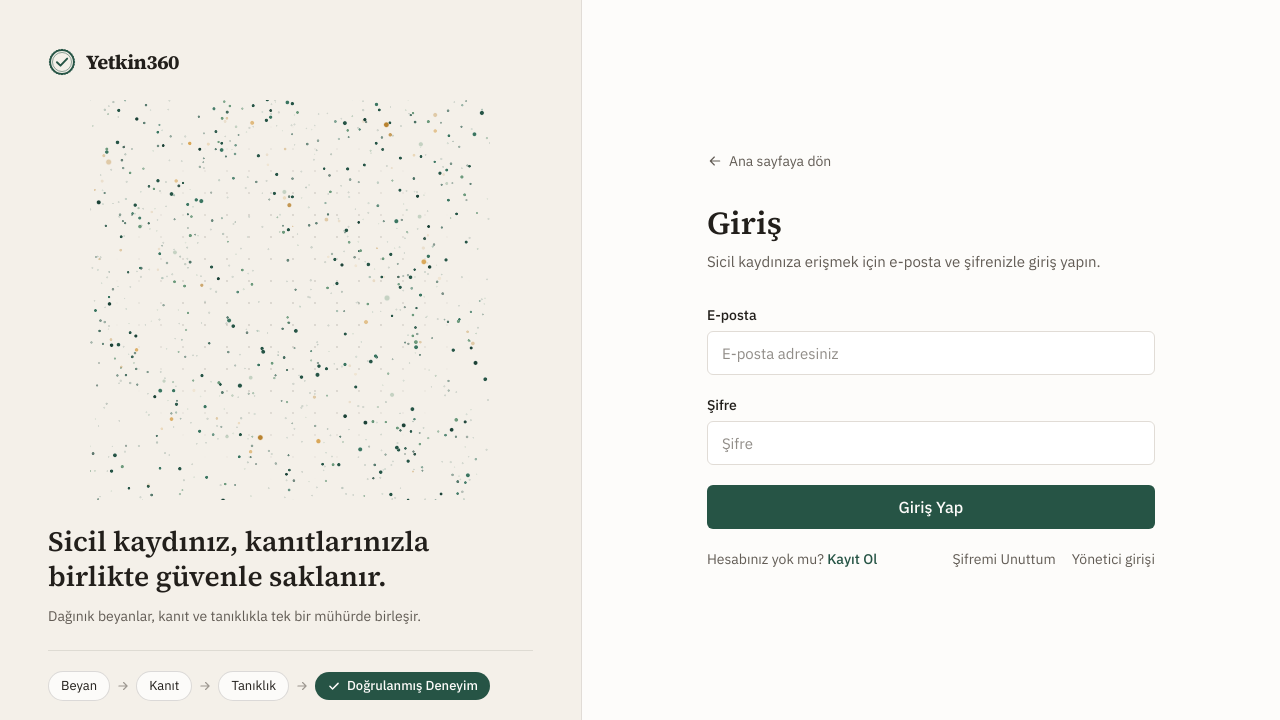
Test: LoginPage (giris/page.tsx) — Form Gerçek İmplementasyon › AC-9: Client-side + backend validasyon (422) › AC-9: Backend 422 dönerse ilgili alanın altında backend mesajı gösterilir
The width and height of the screenshot is (1280, 720).
Type "test@example.com" into the field with placeholder "E-posta adresiniz".
click(931, 353); type("test@example.com")  # box [707, 331, 1155, 375]
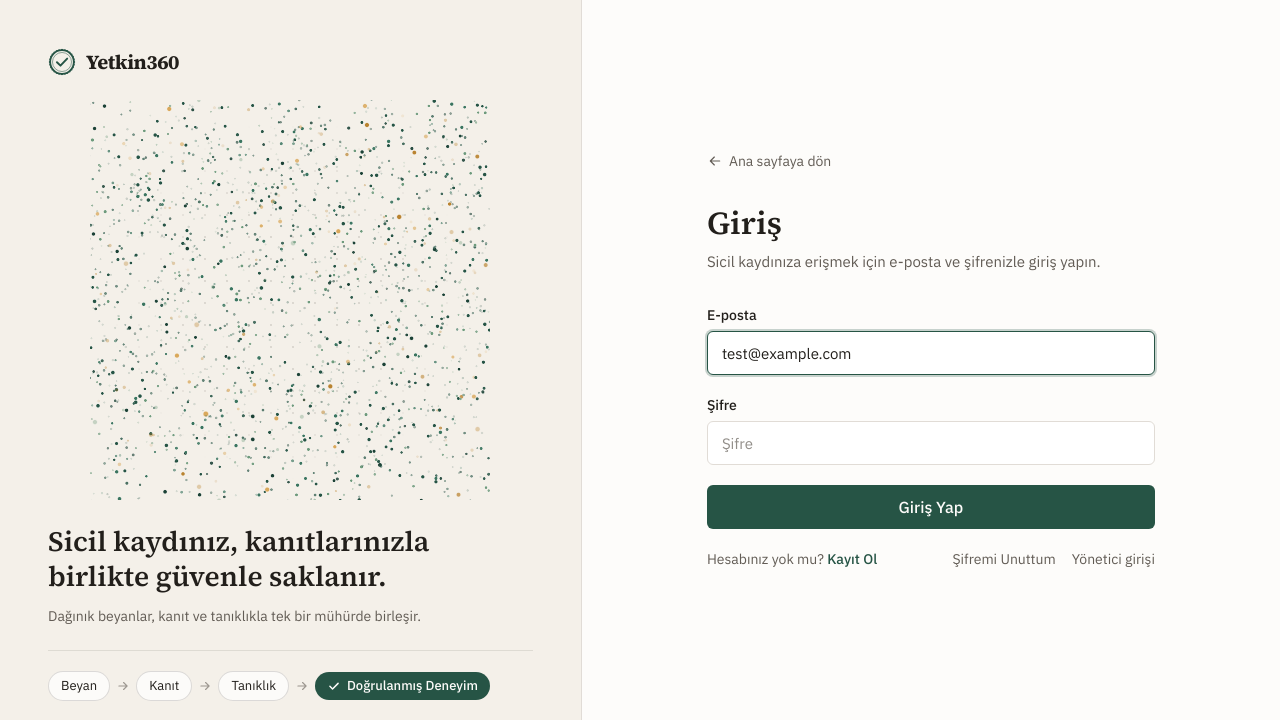
Type "password123" into the password field with placeholder "Şifre".
click(931, 443); type("password123")  # box [707, 421, 1155, 465]
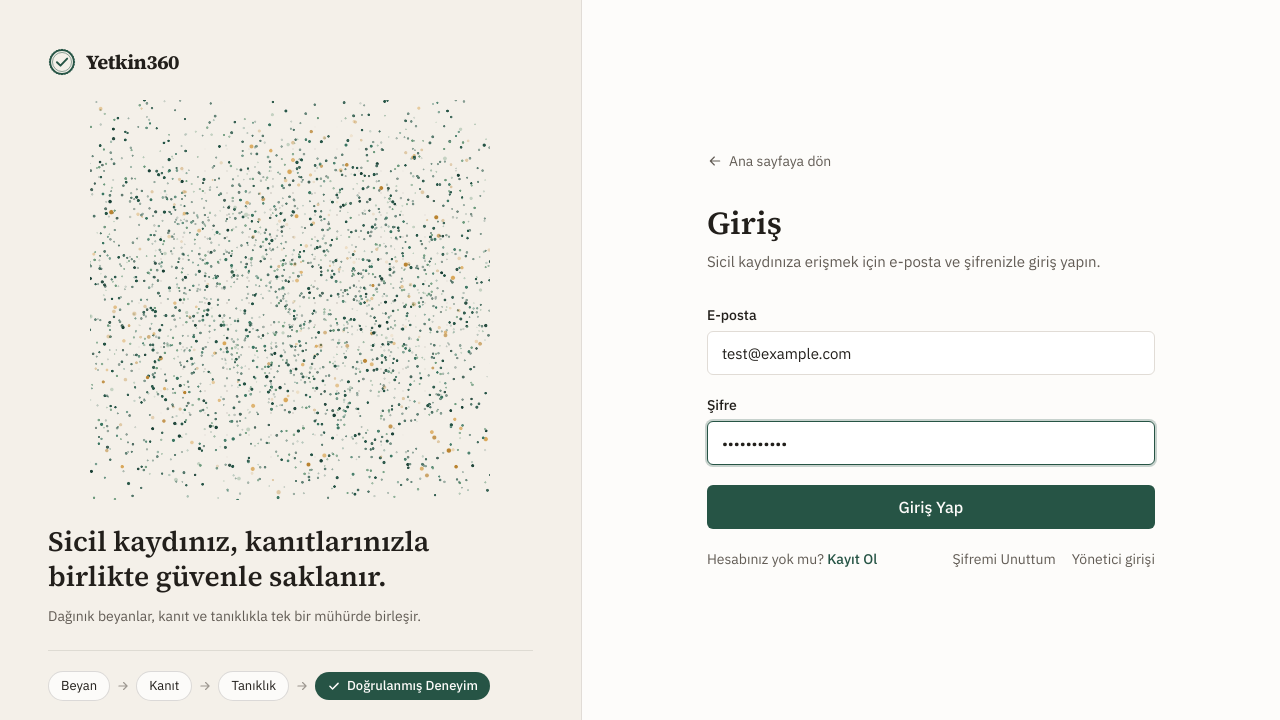
Click the button "Giriş Yap".
click(931, 507)  # box [707, 485, 1155, 529]
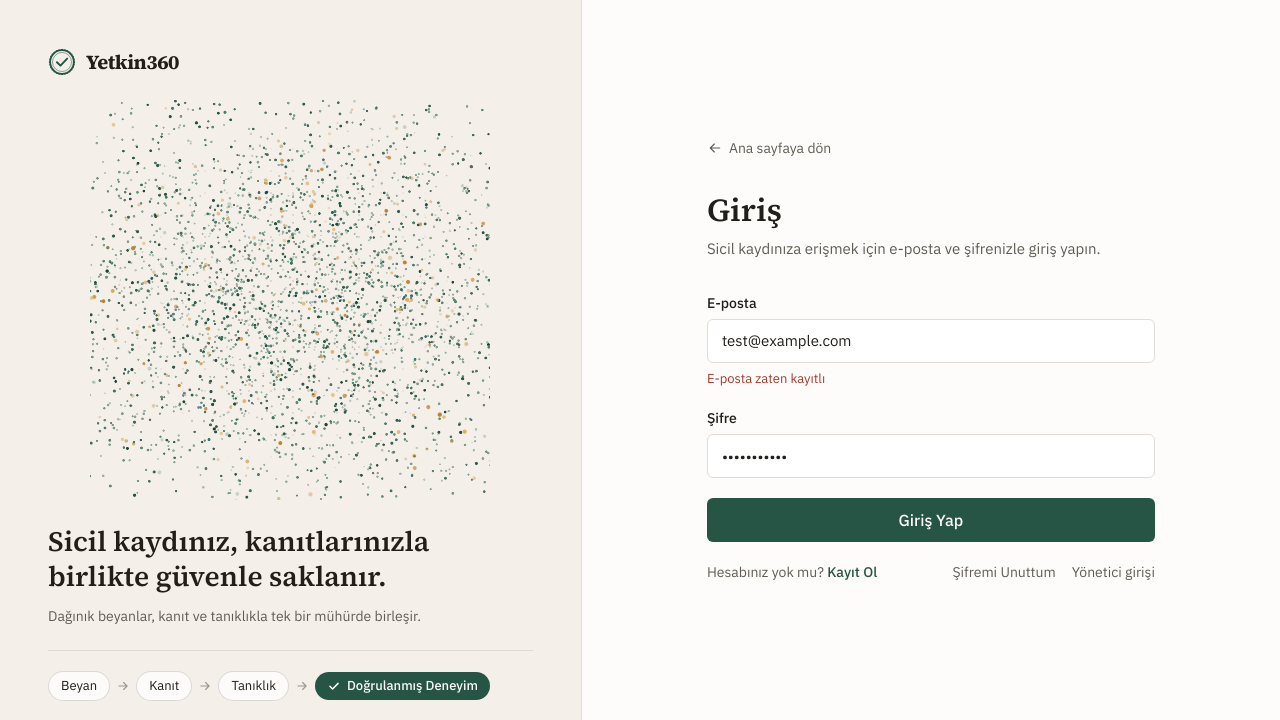
expect the text "E-posta zaten kayıtlı" is shown: met, box [707, 370, 825, 386]
